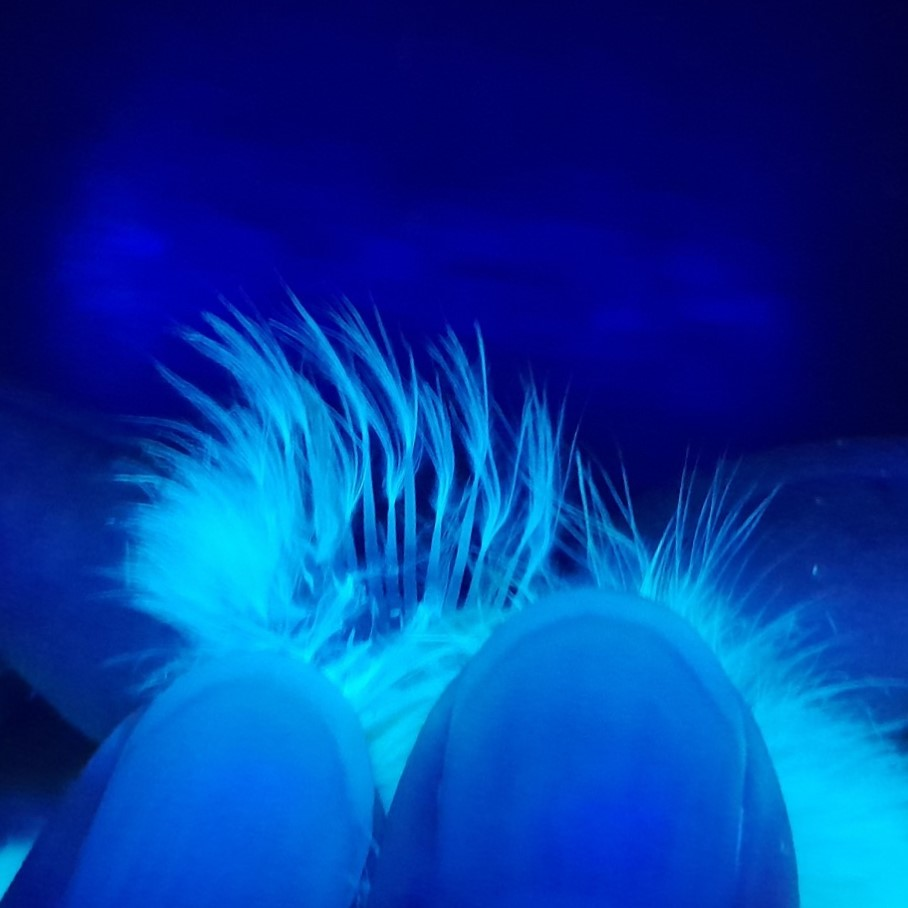male: (283, 422, 558, 702)
